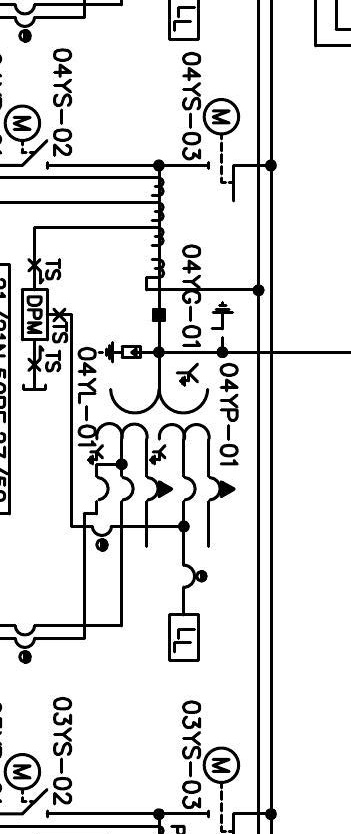115_1way_ds_w_motor: (201, 96, 240, 203), (3, 103, 50, 170), (3, 752, 49, 819)
115_gs: (210, 299, 235, 340)
115_la: (97, 340, 142, 364)
115_vt_3p: (86, 361, 237, 503)
DPM: (20, 287, 49, 341)
LL: (167, 612, 201, 662)
